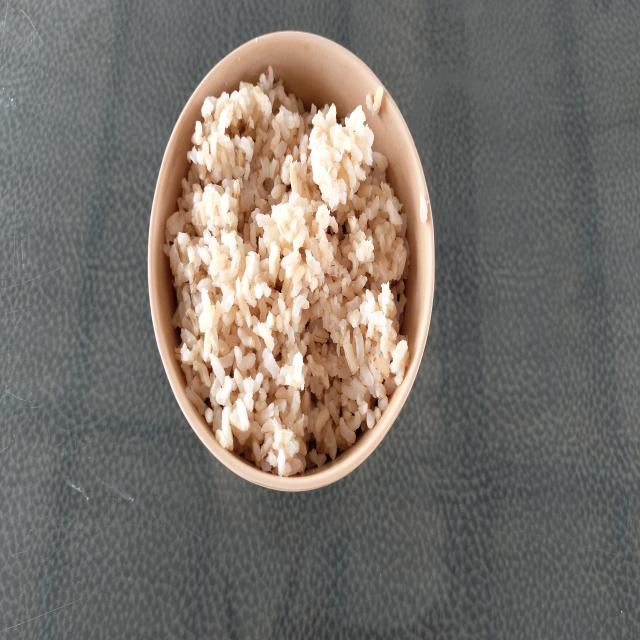brown-rice: (164, 69, 409, 476)
